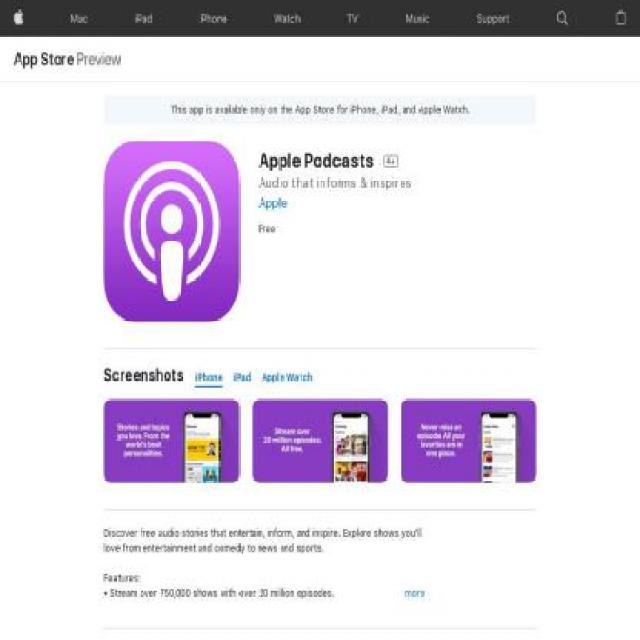button: (470, 0, 516, 37), (192, 0, 234, 37), (268, 0, 306, 37), (399, 0, 436, 37), (128, 0, 160, 37), (13, 50, 75, 67), (66, 0, 94, 37), (261, 368, 313, 387), (341, 0, 365, 37), (609, 0, 633, 37), (7, 0, 30, 37), (195, 368, 222, 387), (232, 368, 251, 387)
